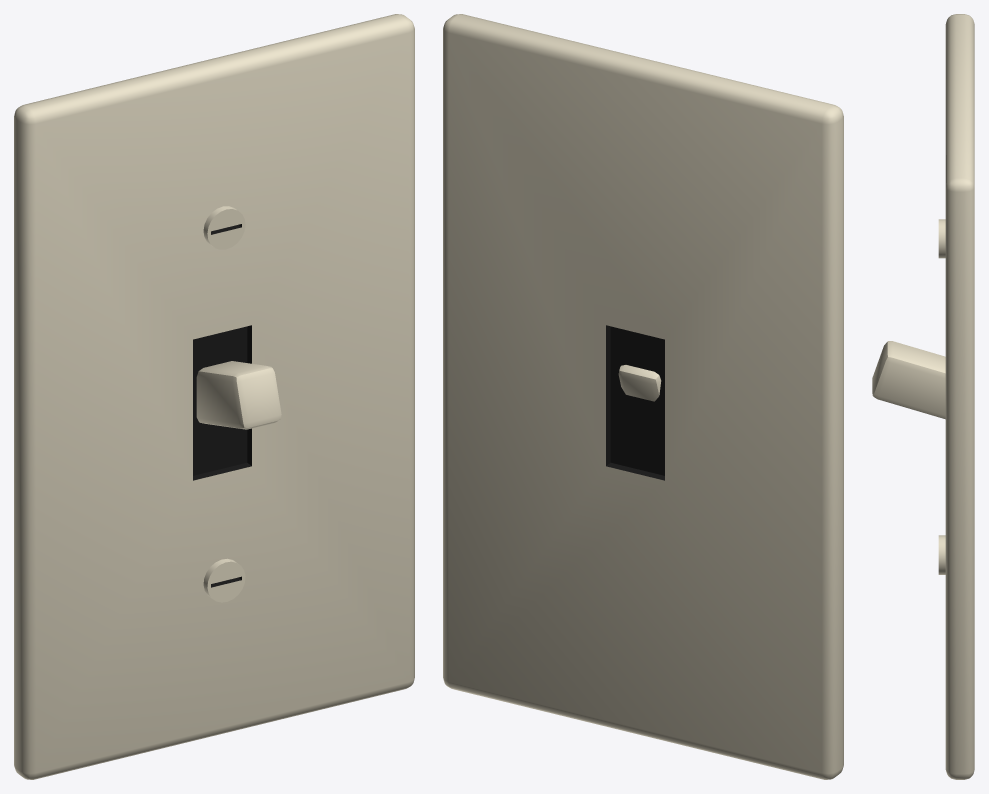
The model's file is switch_plate.glb.
3 views of the same model, side by side, from view 1: azimuth 30°, elevation 25°; view 2: azimuth 150°, elevation 25°; view 3: azimuth 270°, elevation 25° (orthographic). The views are drawn at different scales.
Parts seen in each view (by area): view 1: Switch; view 2: Switch; view 3: Switch.
Boxes of the visible parts, box(x1,y1,x2,y2) form: Switch: box(14, 14, 414, 779); Switch: box(443, 14, 843, 779); Switch: box(872, 14, 974, 779).
Size of the model in its own units: 0.07 by 0.114 by 0.0176.
